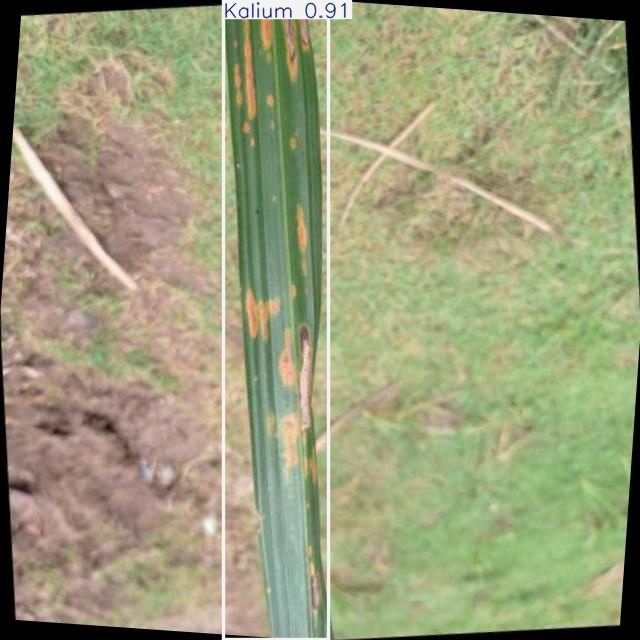Kalium: (223, 0, 328, 640)
